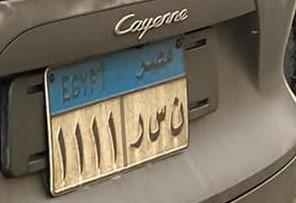1: (91, 107, 108, 170), (108, 102, 122, 171), (54, 124, 69, 179), (72, 119, 85, 178)
ر: (129, 108, 151, 154)
س: (145, 101, 166, 146)
ن: (163, 88, 187, 144)
